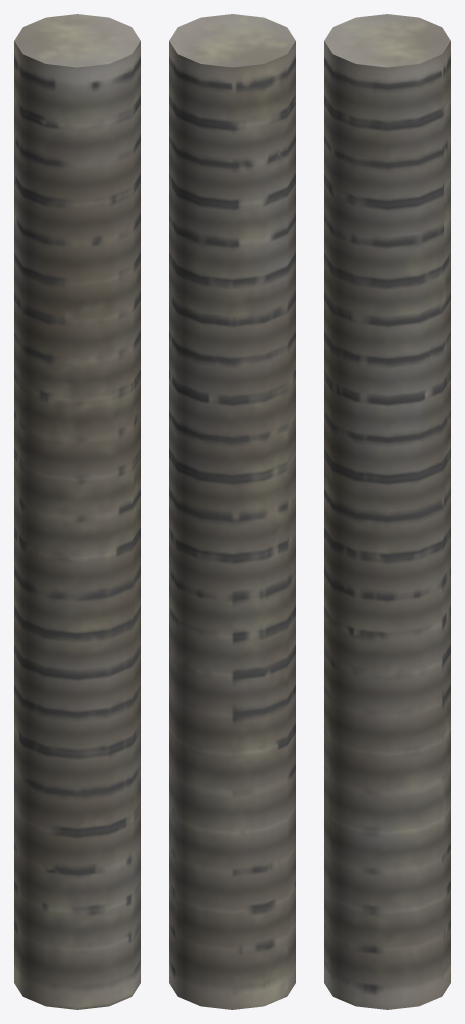
Rendered from NM_ThinTube_Plastic.fbx.
The picture shows the model from 3 angles, left to right: view 1: azimuth 90°, elevation 25°; view 2: azimuth 210°, elevation 25°; view 3: azimuth 270°, elevation 25°; orthographic projection.
Visible parts, largest first — view 1: Tube_Plastic_low; view 2: Tube_Plastic_low; view 3: Tube_Plastic_low.
Part boxes in pixels (x1=…): Tube_Plastic_low: x1=14, y1=14, x2=140, y2=1009; Tube_Plastic_low: x1=169, y1=14, x2=295, y2=1009; Tube_Plastic_low: x1=324, y1=14, x2=450, y2=1009.
Size of the model in its own units: 7.24 by 59.4 by 7.24.
